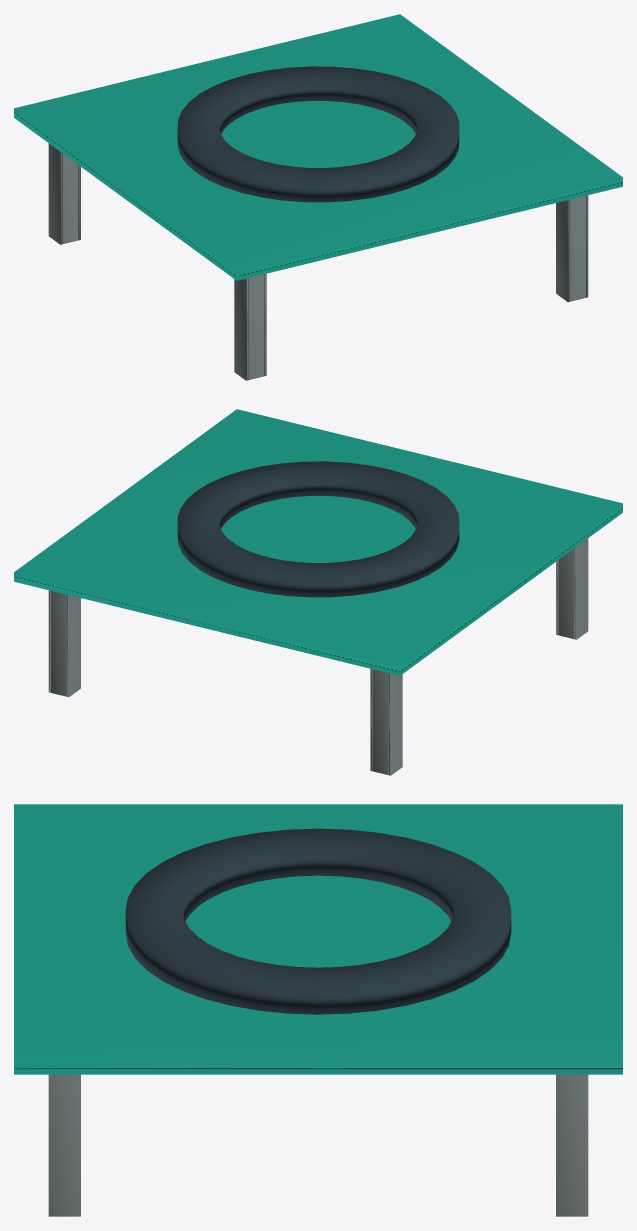
The model's file is corner_stage_3.dae.
3 renders of one model, top to bottom at view 1: azimuth 30°, elevation 25°; view 2: azimuth 150°, elevation 25°; view 3: azimuth 270°, elevation 25°, orthographic. The views are drawn at different scales.
Parts seen in each view (by area): view 1: crossplate, bearing_outer, guide_0_y-1, guide_2_y-1, guide_0_x-1, guide_2_x-1, guide_1_x-1, guide_1_y-1; view 2: crossplate, bearing_outer, guide_1_y1, guide_3_y1, guide_1_x-1, guide_3_x-1, guide_0_x-1, guide_0_y1; view 3: crossplate, bearing_outer, guide_2_x1, guide_3_x1.
Part boxes in pixels (x1,y1,x2,y2): crossplate: (14,14,622,280); bearing_outer: (177,66,459,202); guide_0_y-1: (248,274,264,379); guide_2_y-1: (570,196,585,301); guide_0_x-1: (234,278,248,380); guide_2_x-1: (556,199,570,302); guide_1_x-1: (48,143,62,244); guide_1_y-1: (63,154,78,243); crossplate: (14,409,622,675); bearing_outer: (177,461,459,597); guide_1_y1: (372,669,388,774); guide_3_y1: (51,591,66,696); guide_1_x-1: (388,673,402,775); guide_3_x-1: (66,594,80,697); guide_0_x-1: (574,538,588,639); guide_0_y1: (558,549,573,638); crossplate: (14,804,622,1074); bearing_outer: (125,828,511,1014); guide_2_x1: (48,1074,80,1216); guide_3_x1: (556,1074,588,1216).
Size of the model in its own units: 0.6 by 0.6 by 0.209.
